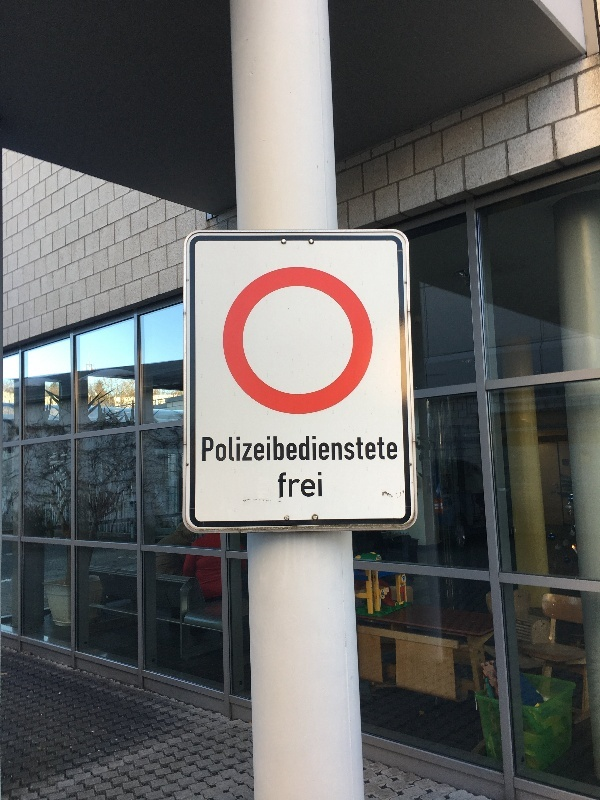text: (209, 436, 224, 463), (225, 436, 240, 463), (241, 436, 256, 463), (257, 436, 272, 463), (273, 436, 288, 463), (289, 436, 304, 463), (305, 436, 320, 463), (321, 436, 336, 463), (337, 436, 352, 463), (353, 436, 368, 463), (369, 436, 384, 463), (289, 472, 304, 497), (305, 472, 320, 497), (385, 436, 398, 463), (278, 472, 288, 497), (203, 436, 208, 463), (321, 472, 322, 497)
